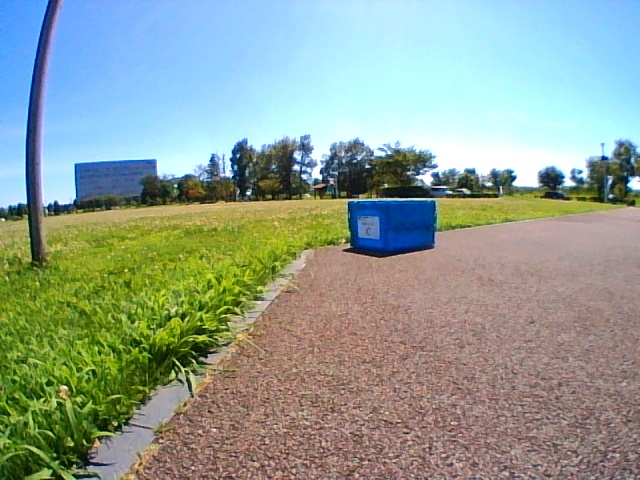blue_box: (348, 201, 436, 249)
tag_c: (358, 217, 379, 238)
